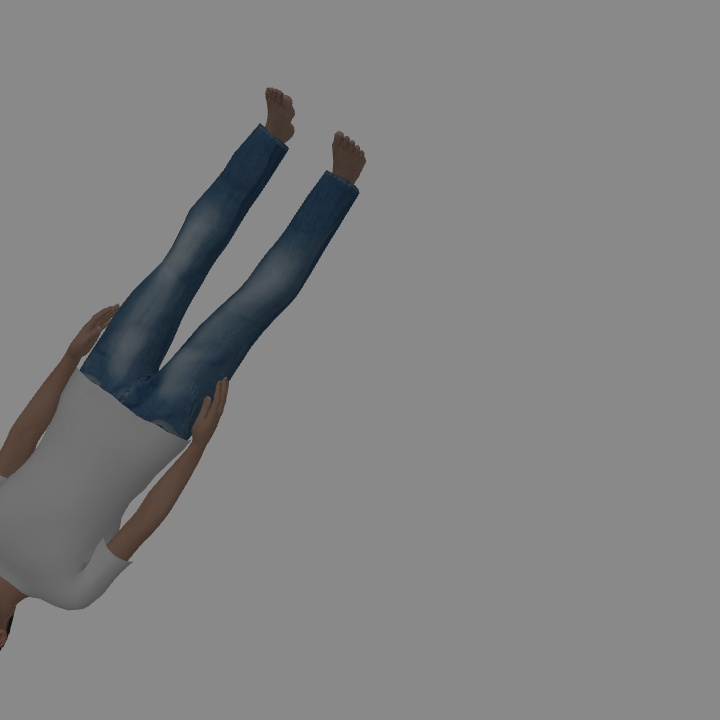victim: (3, 84, 364, 648)
